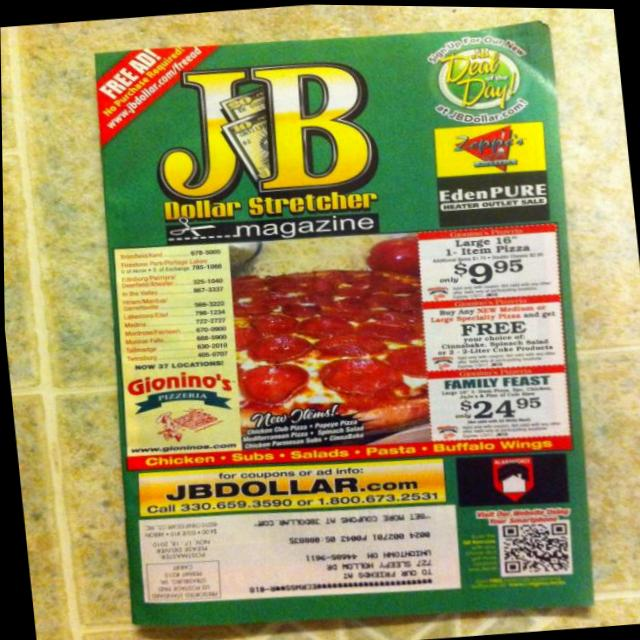qrcode: (499, 519, 570, 575)
